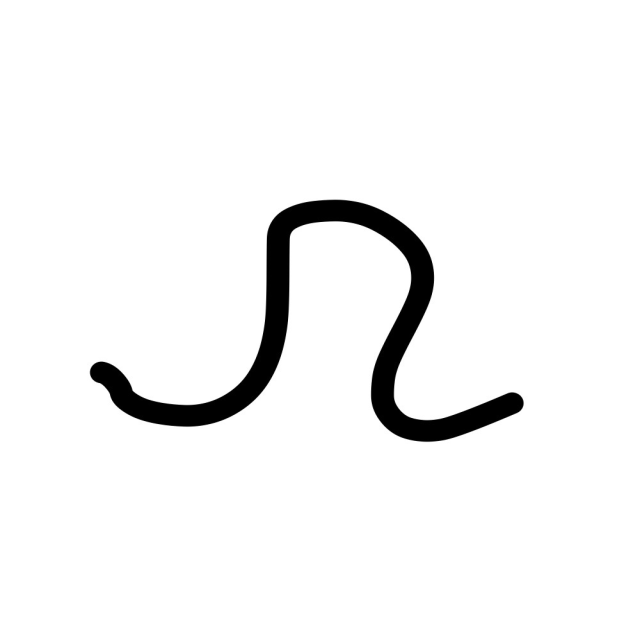ohms: (78, 129, 549, 510)
